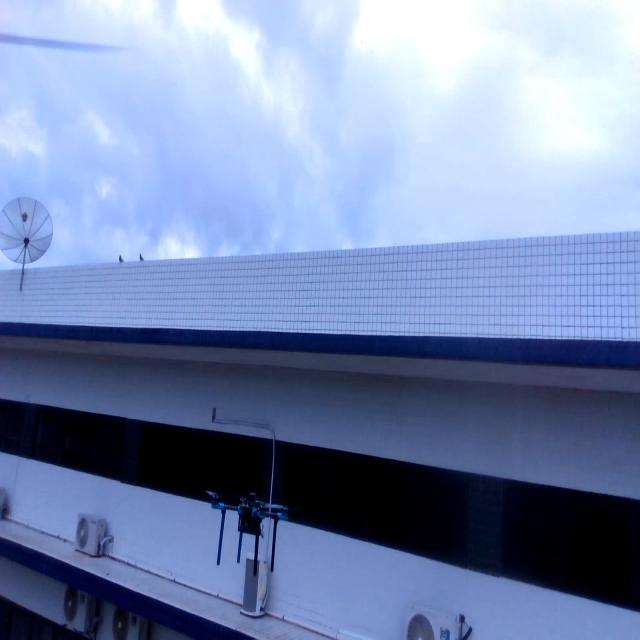-uav-: (198, 477, 294, 588)
